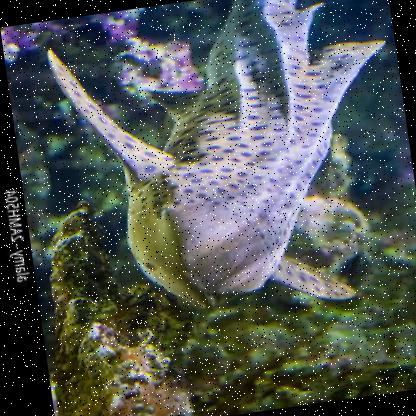zebra_shark: (29, 0, 415, 352)
